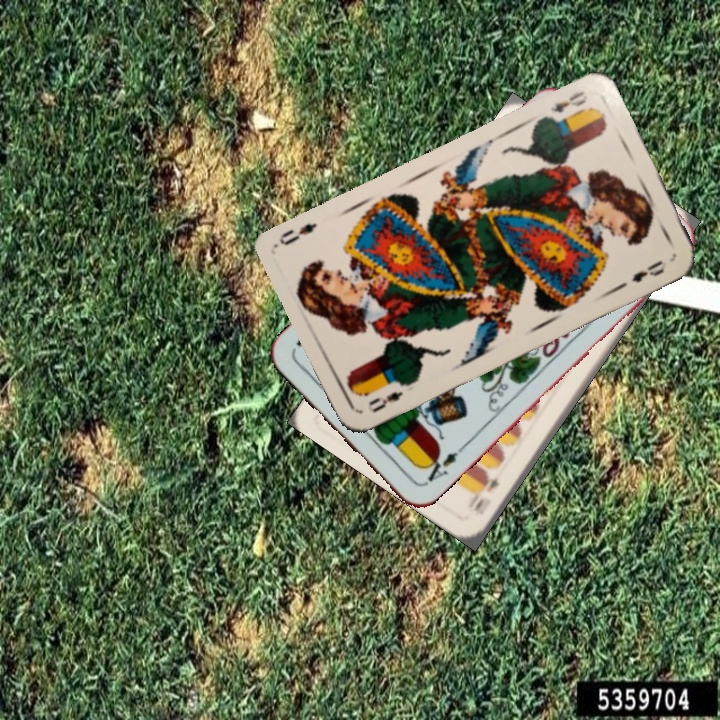E10: (470, 472, 502, 518)
EA: (418, 442, 467, 488)
EO: (364, 378, 412, 415), (546, 86, 590, 116)
